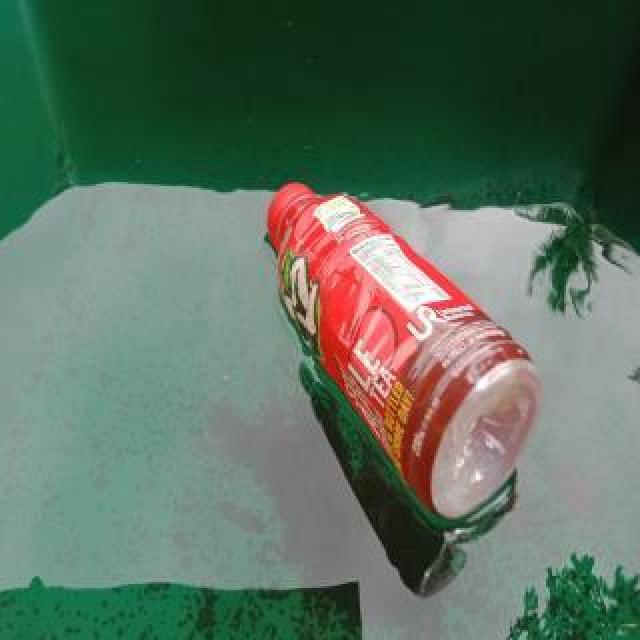bottle: (263, 174, 545, 536)
